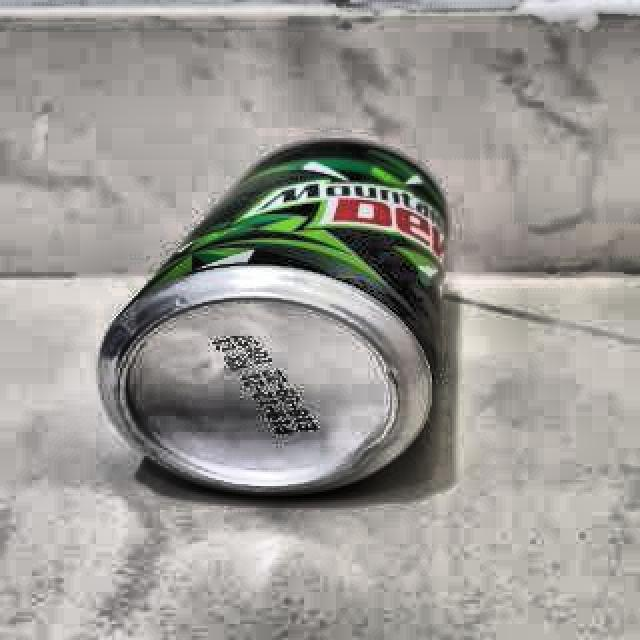metal: (95, 140, 451, 496)
